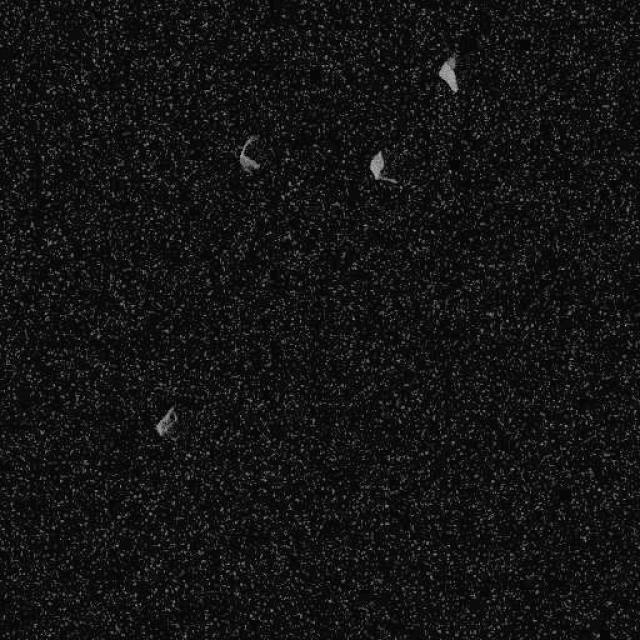D2: (0, 0, 639, 639), (236, 133, 262, 175), (368, 149, 398, 185), (436, 54, 459, 92), (154, 403, 178, 438), (367, 149, 385, 181)
